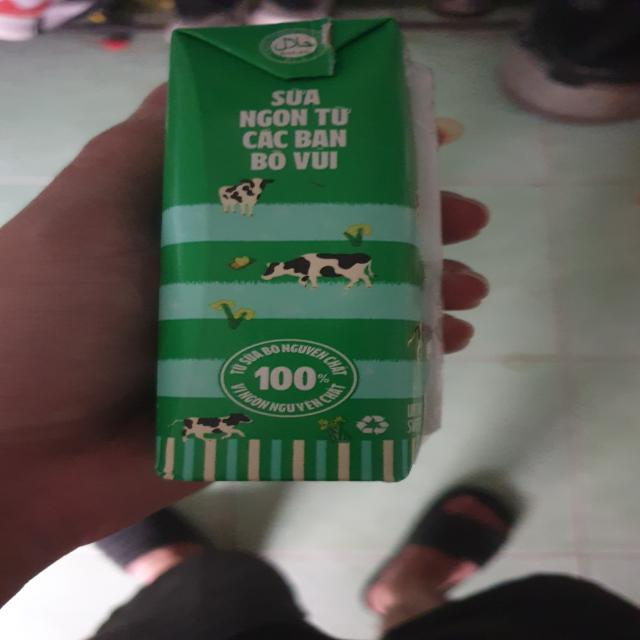Vina: (146, 15, 450, 487)
